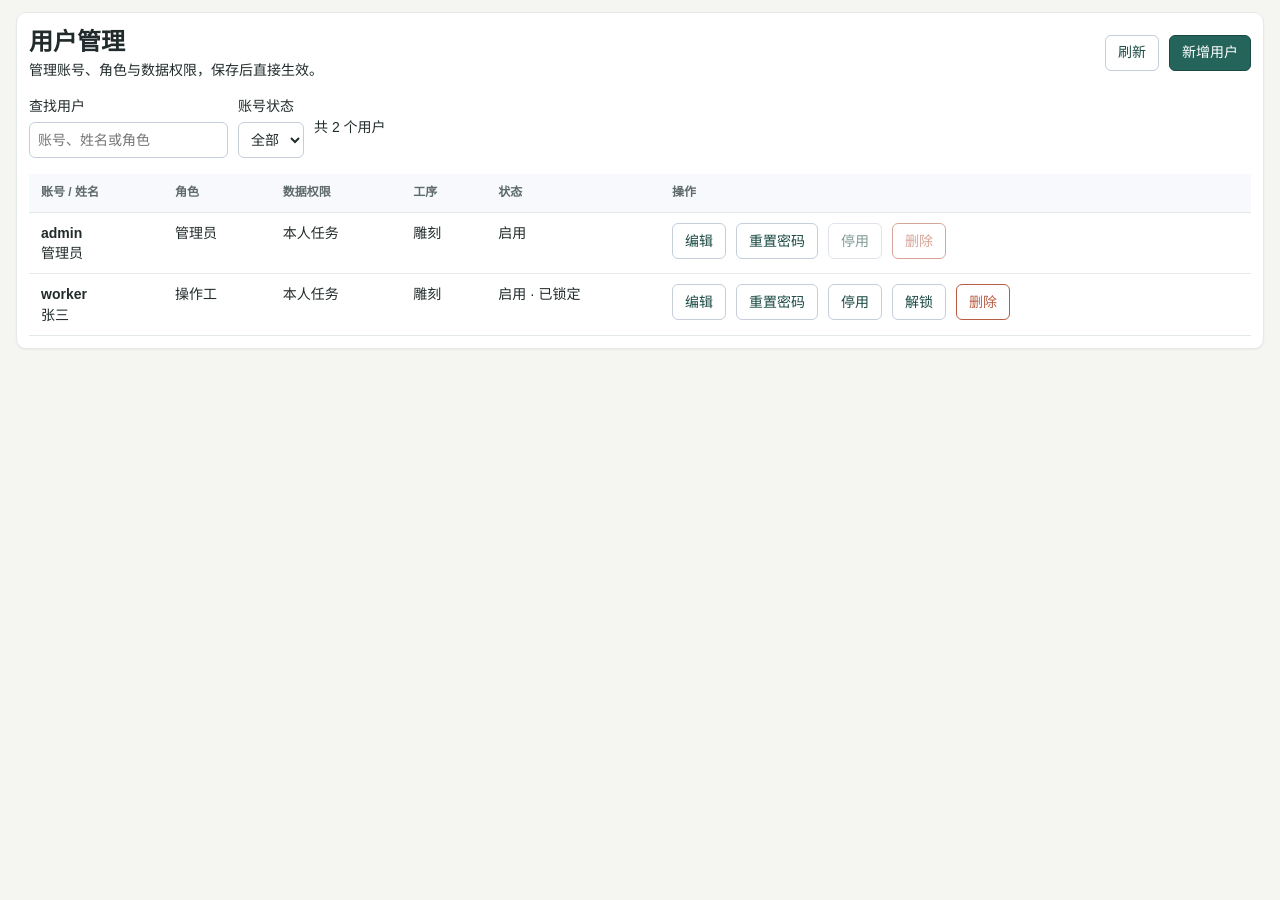
Test: 用户管理 › 失败保留编辑内容供重试，不显示保存成功
Click the button "编辑" in the row of "worker" at (699, 302), box x1=672 y1=284 x2=726 y2=320
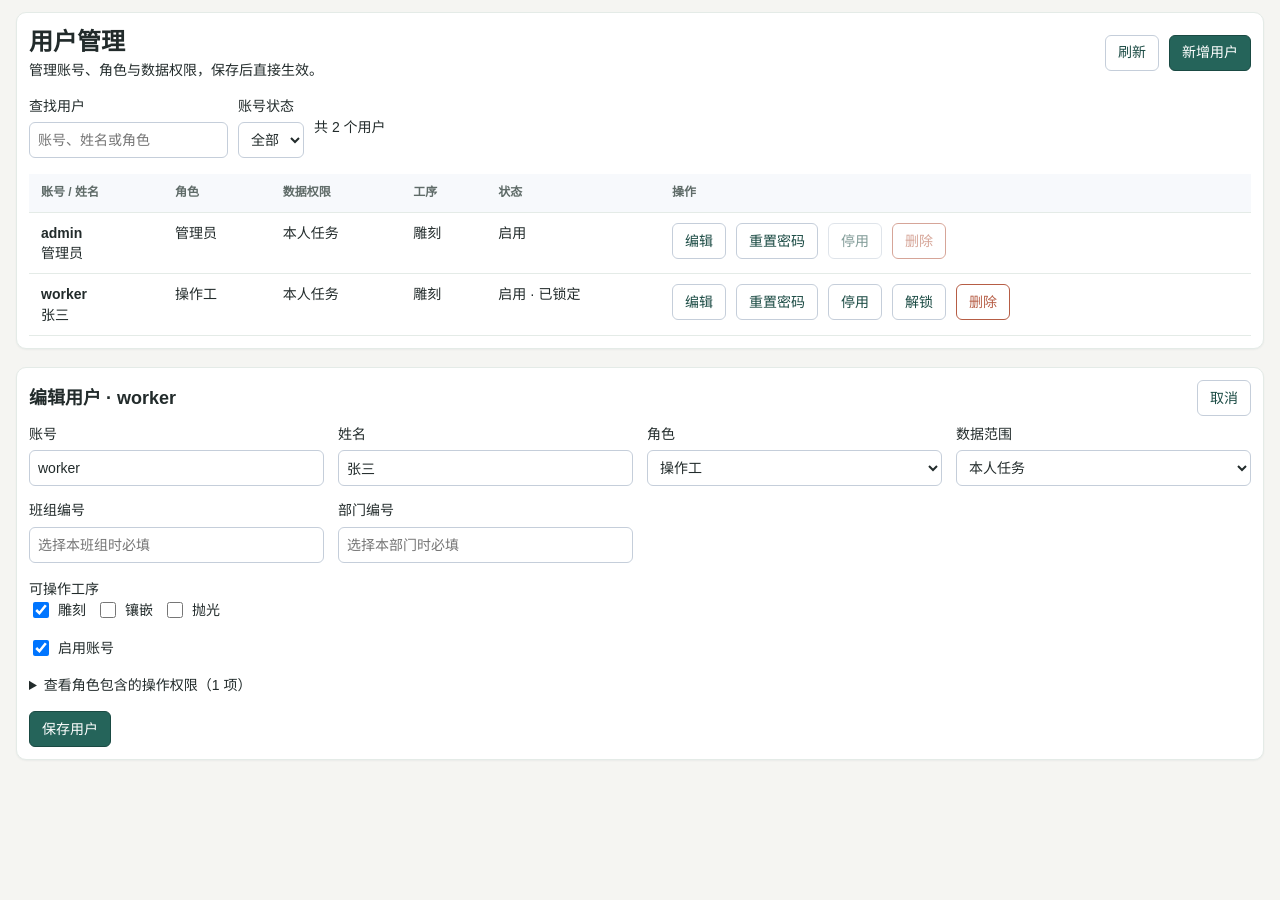
Replace the text in the field named "用户姓名" with "新名字" at (486, 468), box x1=338 y1=450 x2=633 y2=486
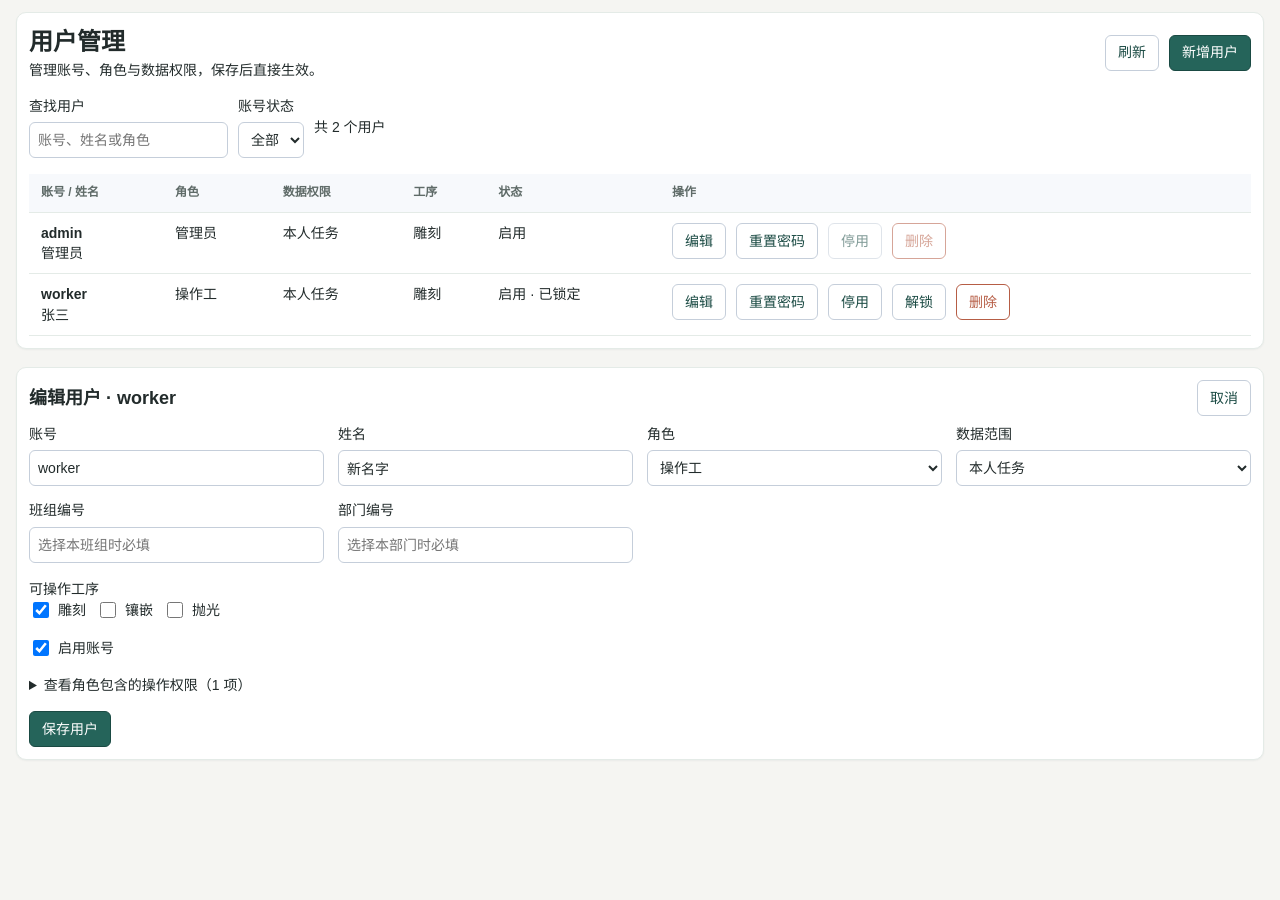
Submit the form, box x1=29 y1=424 x2=1251 y2=747
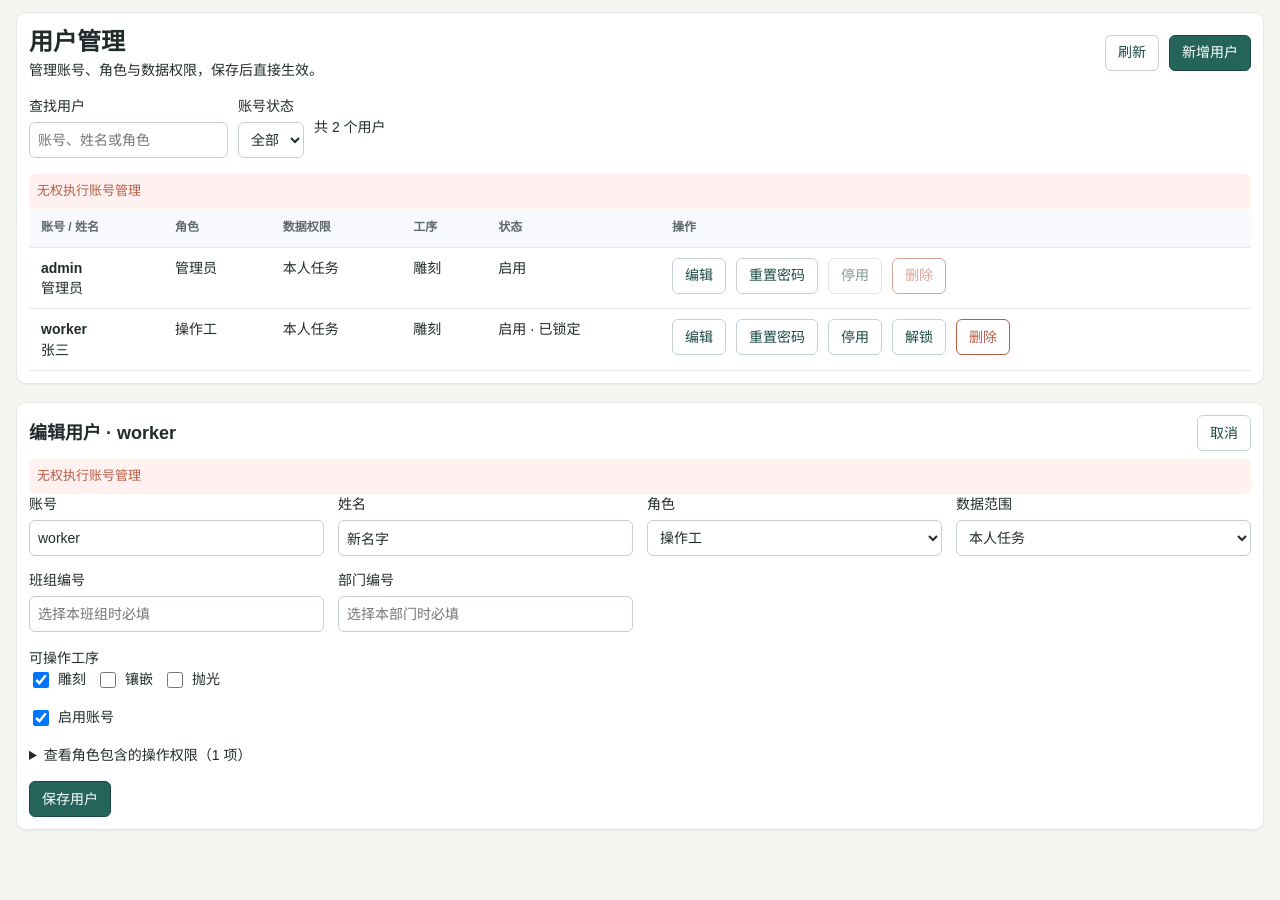
Now the text "无权执行账号管理" is shown, box x1=29 y1=174 x2=1251 y2=209
